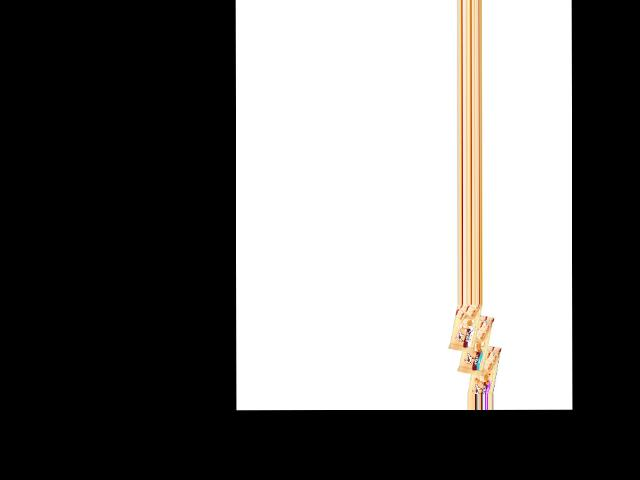chocolate: (466, 341, 498, 394)
